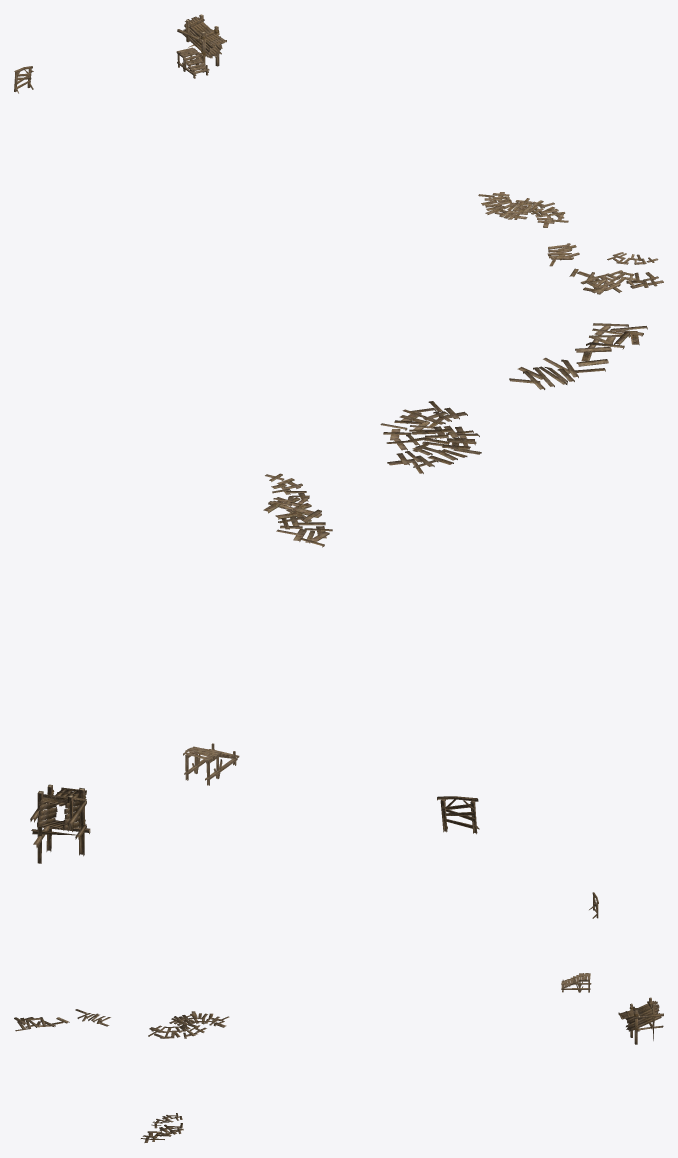
File: S_Build_West109_A.FBX
The picture shows the model from 3 angles, top to bottom: view 1: azimuth 30°, elevation 25°; view 2: azimuth 150°, elevation 25°; view 3: azimuth 270°, elevation 25°; orthographic projection. The views are drawn at different scales.
Parts seen in each view (by area): view 1: S_Build_West050_001, S_Build_West047_001, S_Build_West109_001, S_Build_West109_002, S_Build_West049_001, S_Build_West110_001, S_Build_West110_002; view 2: S_Build_West050_001, S_Build_West047_001, S_Build_West109_002, S_Build_West109_001, S_Build_West110_001, S_Build_West049_001, S_Build_West110_002, S_Build_West065_001; view 3: S_Build_West050_001, S_Build_West047_001, S_Build_West109_001, S_Build_West049_001, S_Build_West110_001.
Part boxes in pixels (x1=…): S_Build_West050_001: x1=177, y1=14, x2=226, y2=72; S_Build_West047_001: x1=478, y1=192, x2=530, y2=219; S_Build_West109_001: x1=515, y1=198, x2=568, y2=227; S_Build_West109_002: x1=595, y1=270, x2=663, y2=288; S_Build_West049_001: x1=176, y1=47, x2=209, y2=78; S_Build_West110_001: x1=569, y1=268, x2=621, y2=294; S_Build_West110_002: x1=547, y1=243, x2=579, y2=266; S_Build_West050_001: x1=30, y1=784, x2=90, y2=863; S_Build_West047_001: x1=387, y1=425, x2=481, y2=473; S_Build_West109_002: x1=263, y1=497, x2=332, y2=547; S_Build_West109_001: x1=380, y1=401, x2=467, y2=450; S_Build_West110_001: x1=575, y1=323, x2=647, y2=366; S_Build_West049_001: x1=183, y1=743, x2=239, y2=785; S_Build_West110_002: x1=509, y1=357, x2=605, y2=389; S_Build_West065_001: x1=437, y1=796, x2=479, y2=834; S_Build_West050_001: x1=618, y1=997, x2=663, y2=1044; S_Build_West047_001: x1=169, y1=1011, x2=229, y2=1027; S_Build_West109_001: x1=148, y1=1023, x2=206, y2=1038; S_Build_West049_001: x1=561, y1=973, x2=591, y2=992; S_Build_West110_001: x1=14, y1=1017, x2=69, y2=1031.
Bounding box in the file's own units: 9509 × 2658 × 16481.
